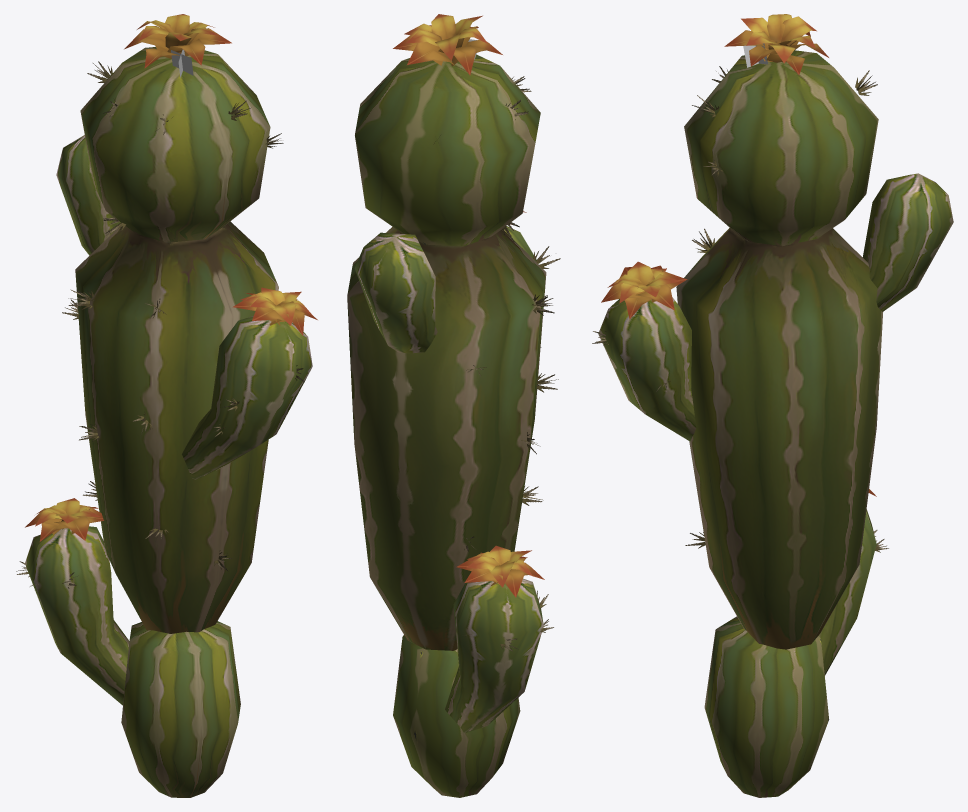
Rendered from Map_11_plant03.FBX.
3 renders of one model, left to right at view 1: azimuth 30°, elevation 25°; view 2: azimuth 150°, elevation 25°; view 3: azimuth 270°, elevation 25°, orthographic.
Visible parts, largest first — view 1: Map_11_plant03a, Map_11_plant03b; view 2: Map_11_plant03a, Map_11_plant03b; view 3: Map_11_plant03a, Map_11_plant03b.
Boxes of the visible parts, left/top/right/bottom form: Map_11_plant03a: left=25, top=14, right=317, bottom=797; Map_11_plant03b: left=16, top=61, right=304, bottom=588; Map_11_plant03a: left=347, top=14, right=546, bottom=797; Map_11_plant03b: left=434, top=76, right=560, bottom=651; Map_11_plant03a: left=598, top=14, right=953, bottom=797; Map_11_plant03b: left=592, top=66, right=888, bottom=552.
Bounding box in the file's own units: 116 × 165 × 384.
